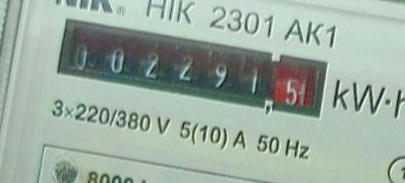0: (68, 38, 90, 70), (105, 44, 125, 75)
1: (242, 62, 261, 98)
2: (140, 49, 160, 79), (175, 51, 193, 82)
5: (280, 74, 300, 106)
9: (208, 58, 228, 90)
screen: (48, 11, 333, 125)
